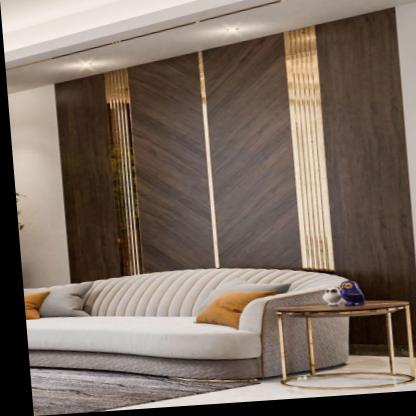Sofa: (19, 255, 354, 394)
Wall Panel: (50, 10, 415, 316)
